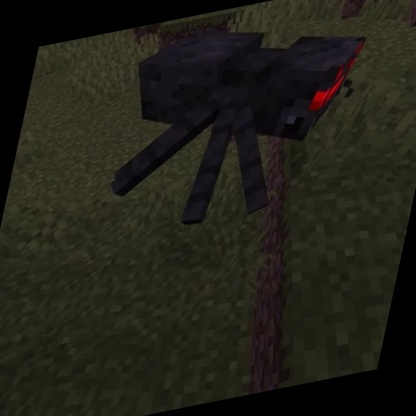spider: (90, 0, 380, 251)
